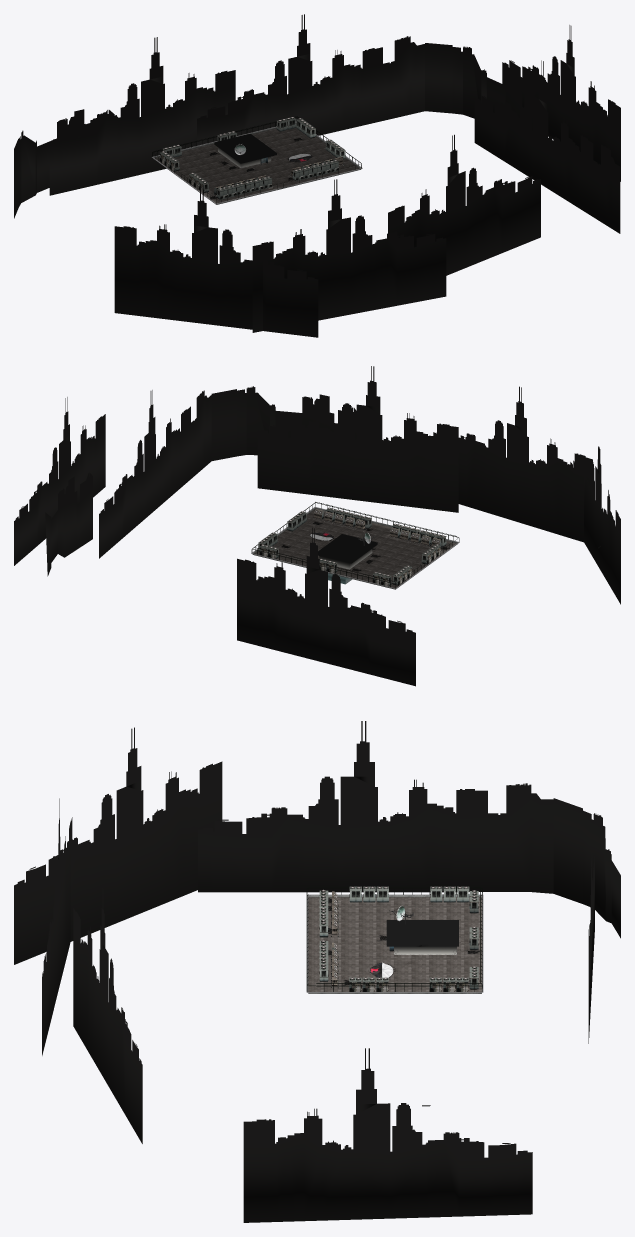
File: Hospital Rooftop.obj
3 renders of one model, top to bottom at view 1: azimuth 30°, elevation 25°; view 2: azimuth 150°, elevation 25°; view 3: azimuth 270°, elevation 25°, orthographic. The views are drawn at different scales.
Parts seen in each view (by area): view 1: CrackedGroundAndBackdrop_CrackedGroundAndBackdrop_Mesh_0011.rip., GroundTiles_Mesh_0013.rip.004, Vents_Mesh_0015.rip.004, CrackedWalls_Mesh_0016.rip.004, StoneEdge_Mesh_0014.rip.004, Railing_Mesh_0012.rip.004; view 2: CrackedGroundAndBackdrop_CrackedGroundAndBackdrop_Mesh_0011.rip., GroundTiles_Mesh_0013.rip.004, Vents_Mesh_0015.rip.004, CrackedWalls_Mesh_0016.rip.004, Railing_Mesh_0012.rip.004, StoneEdge_Mesh_0014.rip.004; view 3: CrackedGroundAndBackdrop_CrackedGroundAndBackdrop_Mesh_0011.rip., GroundTiles_Mesh_0013.rip.004, Vents_Mesh_0015.rip.004, CrackedWalls_Mesh_0016.rip.004, Railing_Mesh_0012.rip.004, StoneEdge_Mesh_0014.rip.004.
Part boxes in pixels (left/top/right/bottom): CrackedGroundAndBackdrop_CrackedGroundAndBackdrop_Mesh_0011.rip.: left=14, top=14, right=620, bottom=337; GroundTiles_Mesh_0013.rip.004: left=155, top=123, right=359, bottom=203; Vents_Mesh_0015.rip.004: left=159, top=117, right=345, bottom=199; CrackedWalls_Mesh_0016.rip.004: left=214, top=133, right=276, bottom=168; StoneEdge_Mesh_0014.rip.004: left=152, top=121, right=362, bottom=204; Railing_Mesh_0012.rip.004: left=152, top=116, right=361, bottom=203; CrackedGroundAndBackdrop_CrackedGroundAndBackdrop_Mesh_0011.rip.: left=14, top=366, right=620, bottom=686; GroundTiles_Mesh_0013.rip.004: left=254, top=509, right=456, bottom=588; Vents_Mesh_0015.rip.004: left=258, top=507, right=446, bottom=586; CrackedWalls_Mesh_0016.rip.004: left=318, top=534, right=377, bottom=569; Railing_Mesh_0012.rip.004: left=251, top=502, right=459, bottom=588; StoneEdge_Mesh_0014.rip.004: left=251, top=507, right=459, bottom=589; CrackedGroundAndBackdrop_CrackedGroundAndBackdrop_Mesh_0011.rip.: left=14, top=721, right=620, bottom=1222; GroundTiles_Mesh_0013.rip.004: left=308, top=897, right=481, bottom=991; Vents_Mesh_0015.rip.004: left=319, top=886, right=478, bottom=991; CrackedWalls_Mesh_0016.rip.004: left=386, top=920, right=458, bottom=954; Railing_Mesh_0012.rip.004: left=306, top=887, right=482, bottom=991; StoneEdge_Mesh_0014.rip.004: left=306, top=894, right=483, bottom=993.
Size of the model in its own units: 240 by 65.18 by 180.
14 materials, 14 textured.
